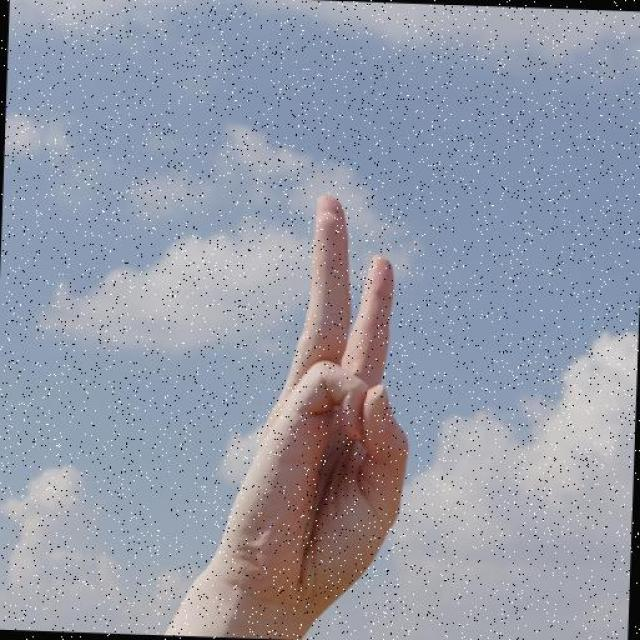W: (171, 161, 422, 640)
